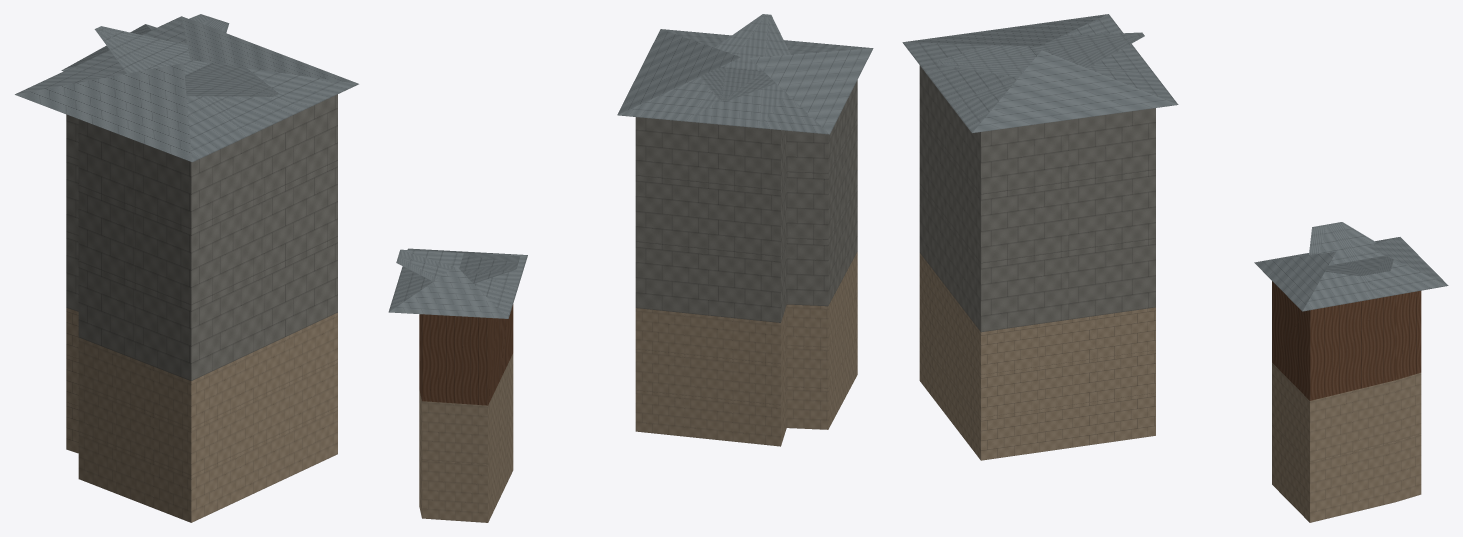
The model's file is bld_c30_-25_541.gltf.
3 views of the same model, side by side, from view 1: azimuth 30°, elevation 25°; view 2: azimuth 150°, elevation 25°; view 3: azimuth 270°, elevation 25° (orthographic). The views are drawn at different scales.
Parts seen in each view (by area): view 1: bld_c30_-25_541; view 2: bld_c30_-25_541; view 3: bld_c30_-25_541.
Boxes of the visible parts, x1=… form: bld_c30_-25_541: x1=15, y1=14, x2=358, y2=522; bld_c30_-25_541: x1=388, y1=14, x2=873, y2=522; bld_c30_-25_541: x1=902, y1=14, x2=1448, y2=522.
Bounding box in the file's own units: 14.2 × 14.9 × 19.68.
4 materials, 4 textured.
